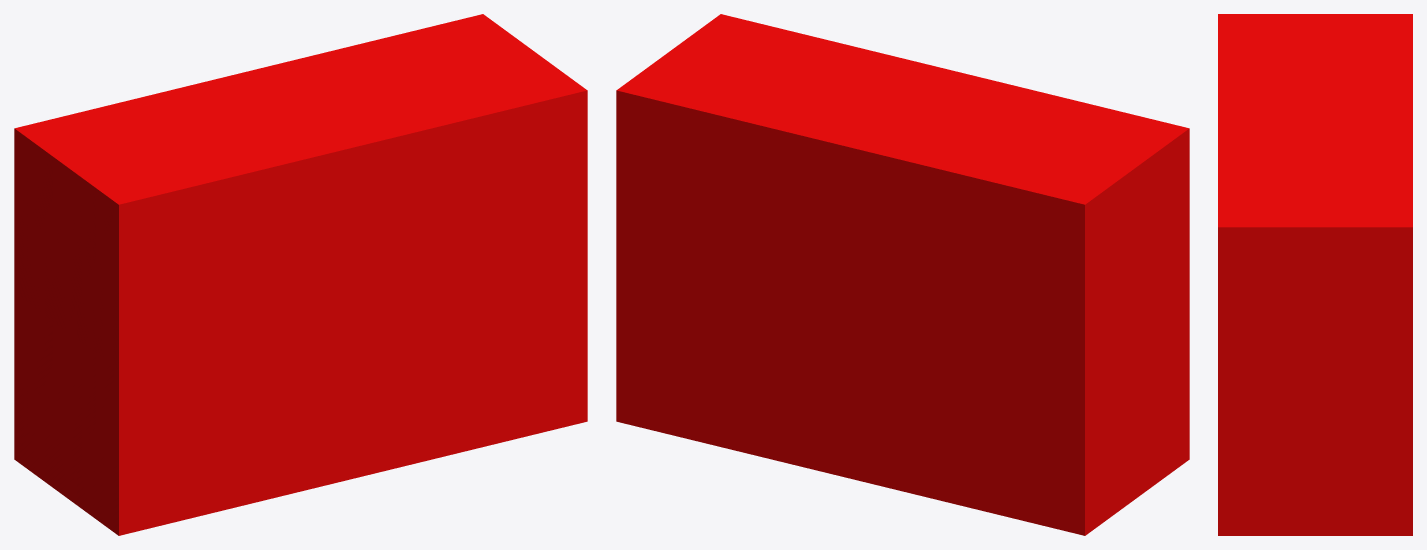
The model's file is mid_phalanx3_rvs_col.dae.
3 views of the same model, side by side, from view 1: azimuth 30°, elevation 25°; view 2: azimuth 150°, elevation 25°; view 3: azimuth 270°, elevation 25° (orthographic). The views are drawn at different scales.
Visible parts, largest first — view 1: node0; view 2: node0; view 3: node0.
Boxes of the visible parts, bbox=[...] form: node0: bbox=[14, 14, 587, 535]; node0: bbox=[616, 14, 1189, 535]; node0: bbox=[1218, 14, 1412, 535].
Size of the model in its own units: 0.0134 by 0.00905 by 0.00517.
